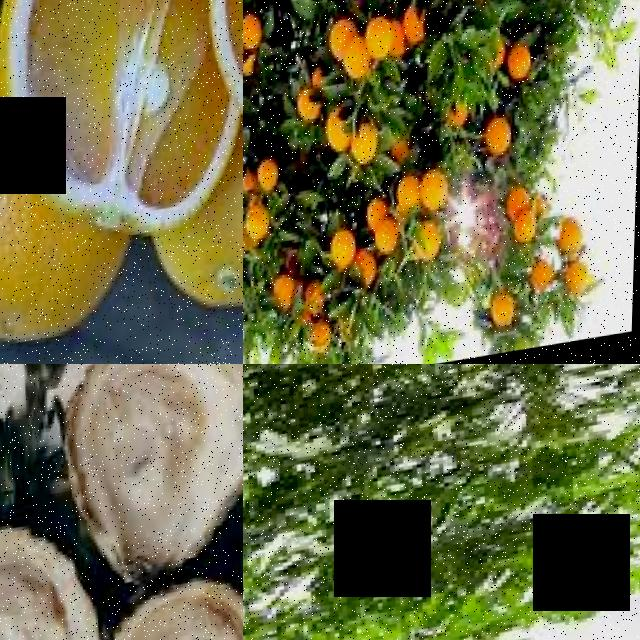orange: (32, 0, 228, 244), (0, 188, 141, 364), (189, 165, 243, 324), (482, 120, 517, 171), (366, 21, 398, 69), (506, 49, 534, 97), (353, 132, 382, 178), (331, 235, 361, 279), (422, 177, 451, 220), (329, 22, 355, 67), (376, 223, 402, 268), (327, 115, 350, 163), (243, 14, 268, 57), (246, 208, 272, 248), (258, 160, 284, 195)
oysters: (53, 364, 243, 592), (0, 525, 105, 640), (98, 576, 243, 640)
